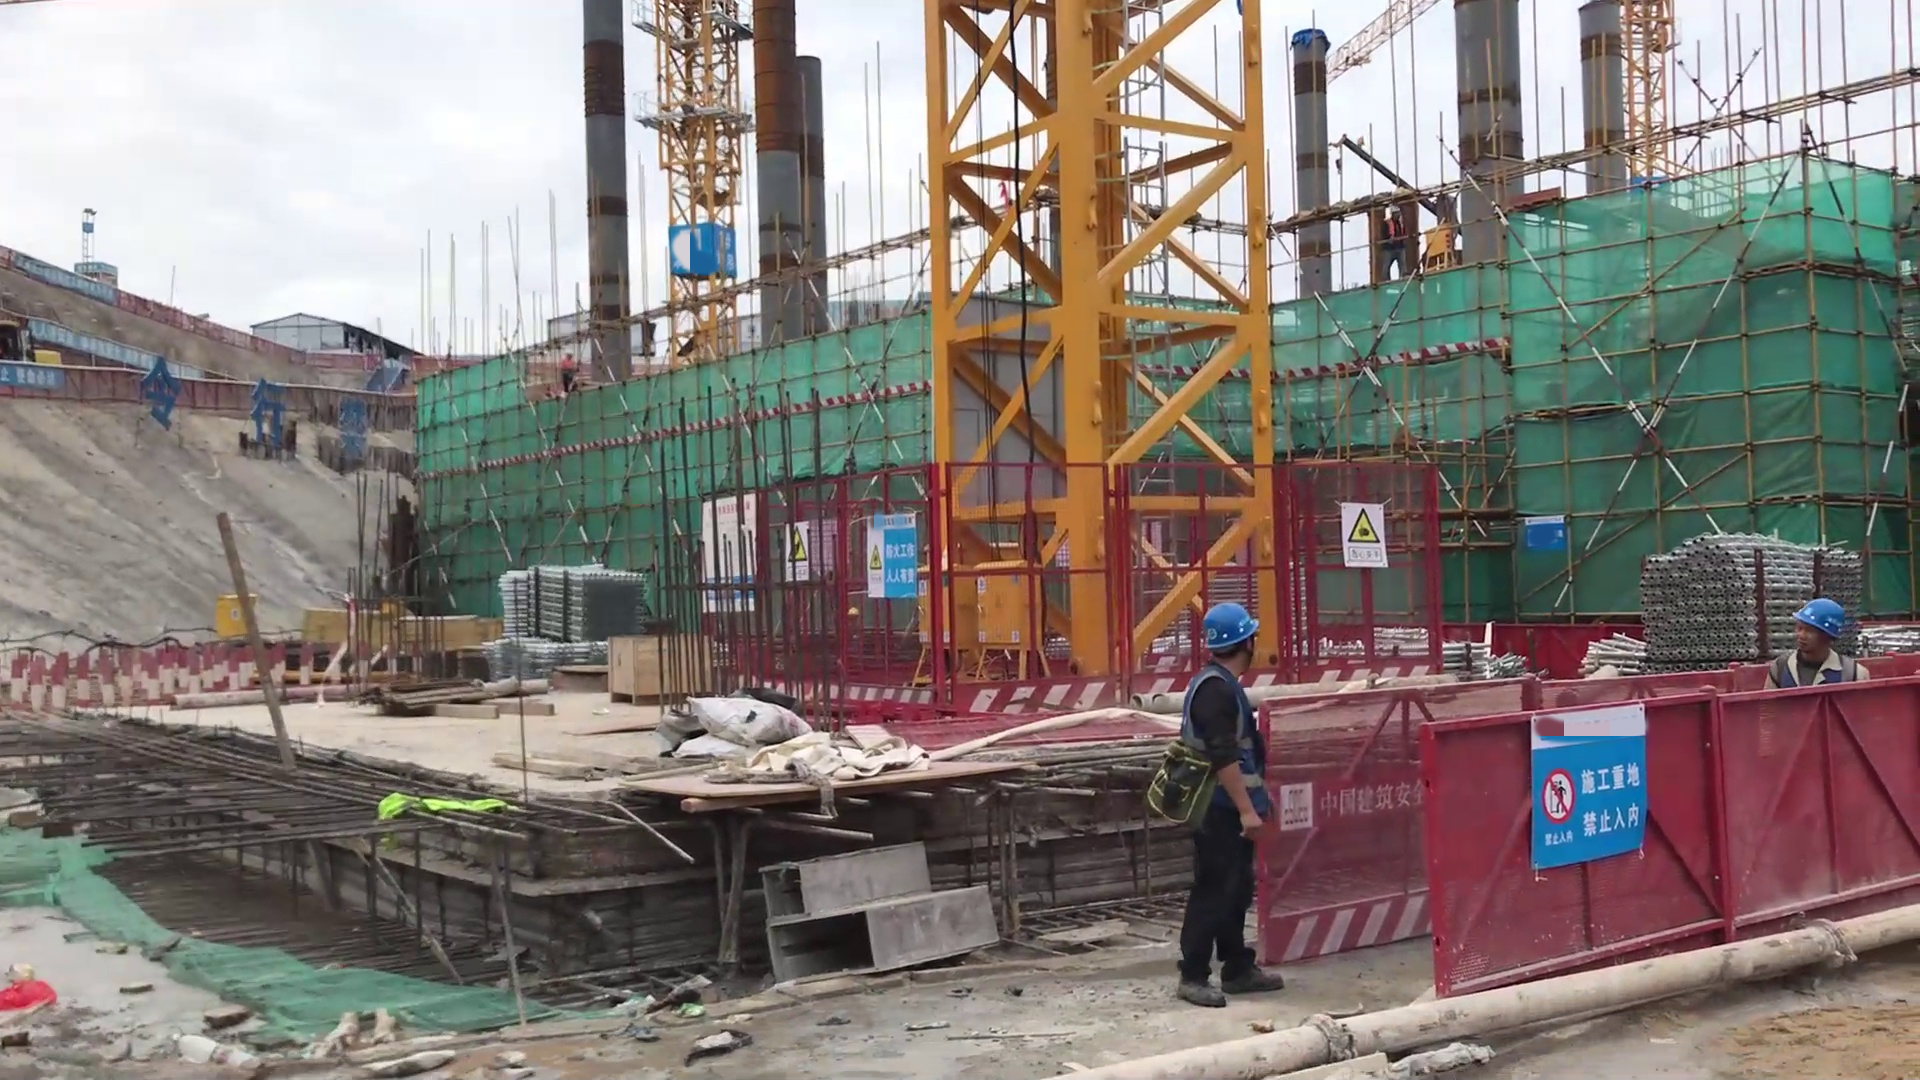ebox: (978, 549, 1060, 686), (912, 560, 981, 683), (214, 590, 259, 647), (1425, 225, 1457, 274)
fence: (1408, 685, 1920, 948)
helmet: (1203, 603, 1261, 650)
person: (1141, 600, 1301, 1009), (1759, 596, 1885, 687)
scaffold: (1634, 527, 1782, 674), (491, 555, 640, 635)
slogan: (1507, 701, 1675, 864), (25, 316, 230, 385), (685, 482, 762, 615), (860, 502, 912, 593), (1338, 497, 1399, 571), (782, 519, 823, 582)
vest: (1169, 665, 1289, 839)
wood: (601, 619, 721, 718), (386, 601, 500, 671)
